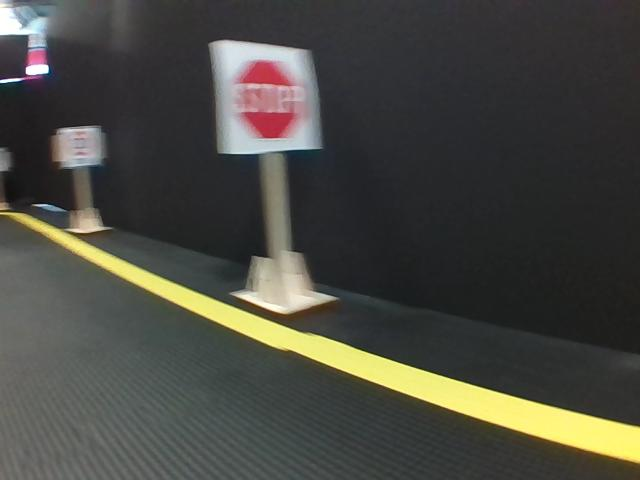30: (61, 129, 102, 166)
stop: (212, 40, 322, 150)
